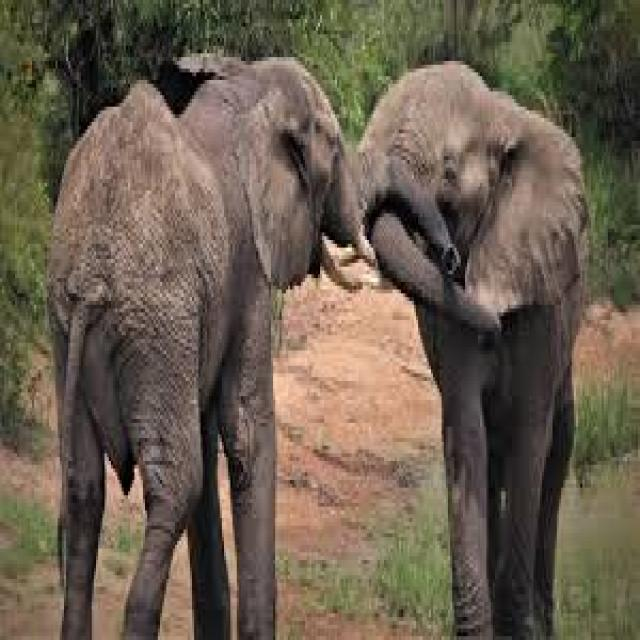Elephant: (331, 57, 588, 636), (45, 76, 232, 636)
